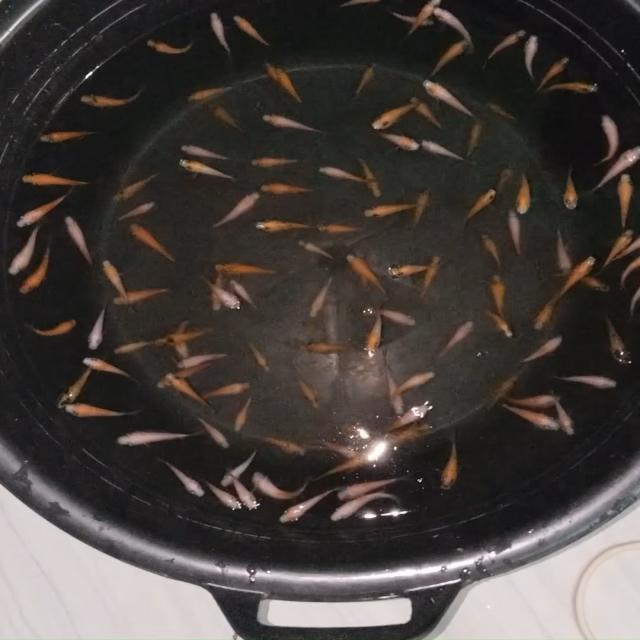nila: (272, 484, 344, 526), (122, 218, 178, 268), (424, 79, 486, 122), (589, 143, 640, 193), (334, 470, 412, 500), (206, 189, 264, 229), (15, 240, 54, 298), (113, 424, 206, 448), (160, 370, 213, 412), (14, 190, 68, 230), (325, 492, 402, 520), (61, 212, 98, 270), (342, 252, 390, 296), (598, 310, 634, 368), (248, 472, 322, 500), (259, 108, 328, 138), (196, 268, 247, 308), (428, 6, 473, 51), (555, 257, 600, 302), (6, 222, 42, 278), (502, 406, 564, 438), (177, 154, 243, 184), (479, 28, 526, 70), (158, 458, 207, 497), (61, 358, 97, 410), (367, 99, 423, 132), (78, 82, 148, 108), (102, 259, 136, 312), (545, 368, 626, 390), (381, 400, 436, 432), (288, 364, 326, 410), (156, 358, 212, 389), (108, 169, 162, 201), (428, 36, 471, 76), (399, 0, 443, 39), (548, 391, 580, 444), (436, 320, 476, 362), (80, 354, 140, 382), (230, 12, 274, 50), (382, 420, 439, 449), (366, 126, 422, 155), (248, 432, 308, 459), (408, 92, 446, 134), (590, 112, 619, 166), (307, 268, 337, 320), (388, 370, 439, 400), (219, 448, 259, 486), (518, 334, 564, 367), (356, 150, 386, 200), (310, 456, 370, 481), (276, 63, 308, 109), (112, 282, 167, 308), (598, 230, 630, 274), (530, 290, 562, 334), (534, 56, 573, 92), (18, 169, 96, 187), (316, 161, 372, 186), (207, 8, 234, 59), (461, 190, 497, 228), (440, 433, 464, 490), (195, 414, 233, 450), (86, 300, 110, 356), (196, 379, 254, 402), (552, 227, 577, 280), (182, 81, 235, 106), (109, 198, 158, 225), (554, 274, 614, 296), (410, 255, 440, 299), (180, 140, 237, 163), (225, 472, 260, 509), (484, 375, 518, 413), (208, 104, 248, 136), (36, 126, 100, 146), (226, 278, 263, 312), (538, 78, 607, 96), (206, 482, 243, 515), (145, 34, 198, 57), (157, 326, 215, 347), (27, 316, 82, 338), (419, 138, 469, 162), (61, 404, 141, 419), (174, 350, 233, 370), (408, 183, 431, 234), (208, 258, 228, 316), (504, 394, 572, 411), (616, 168, 634, 232), (380, 374, 410, 412), (214, 260, 285, 276), (364, 311, 387, 359), (479, 232, 506, 272), (351, 60, 378, 100), (367, 305, 420, 325), (506, 208, 528, 256), (254, 216, 316, 233), (359, 202, 422, 218), (563, 162, 583, 212), (484, 308, 517, 338), (490, 274, 511, 321), (484, 100, 524, 124), (256, 181, 316, 197), (296, 338, 356, 354), (514, 171, 536, 214), (461, 121, 484, 162), (524, 32, 542, 84), (494, 162, 516, 204), (296, 237, 336, 260), (111, 338, 162, 356), (234, 391, 255, 434), (386, 10, 436, 28), (174, 312, 192, 362), (312, 438, 354, 458), (247, 154, 305, 168), (248, 344, 274, 374), (609, 238, 640, 262), (387, 264, 436, 278), (314, 221, 366, 234), (359, 250, 373, 296), (262, 56, 284, 84), (327, 0, 384, 10), (623, 256, 640, 288), (626, 285, 640, 319)
